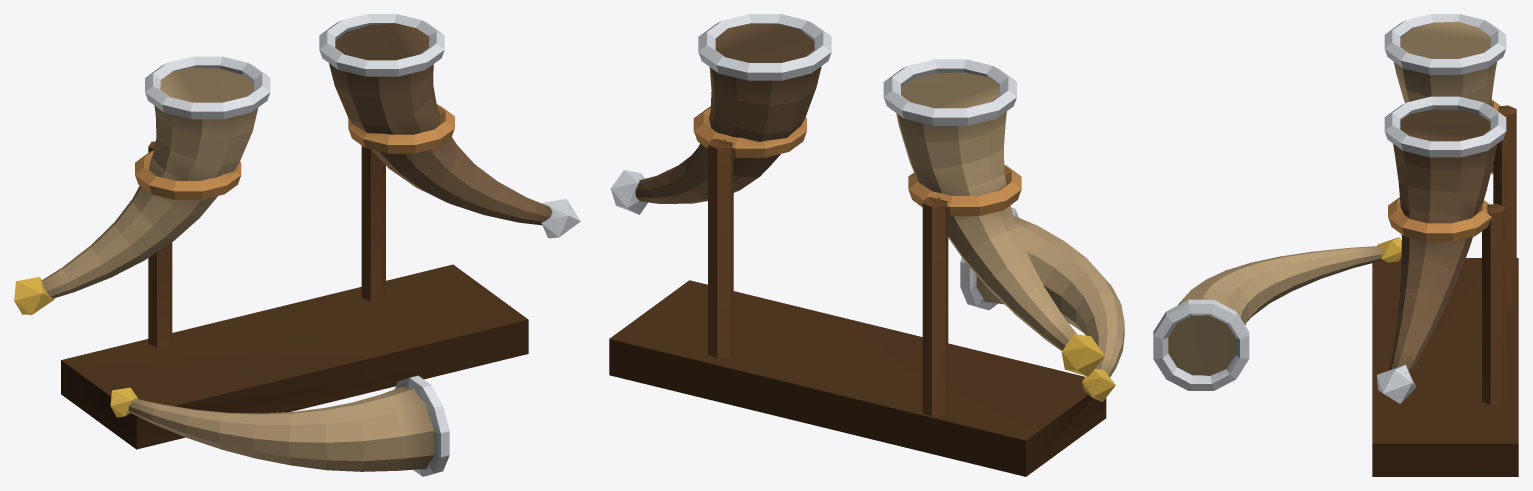
3 renders of one model, left to right at view 1: azimuth 30°, elevation 25°; view 2: azimuth 150°, elevation 25°; view 3: azimuth 270°, elevation 25°, orthographic. The views are drawn at different scales.
Parts seen in each view (by area): view 1: base; view 2: base; view 3: base.
Boxes of the visible parts, bbox=[...] form: base: bbox=[14, 14, 580, 476]; base: bbox=[609, 14, 1124, 476]; base: bbox=[1153, 14, 1518, 476].
Bounding box in the file's own units: 0.4689 × 0.2813 × 0.2993.
